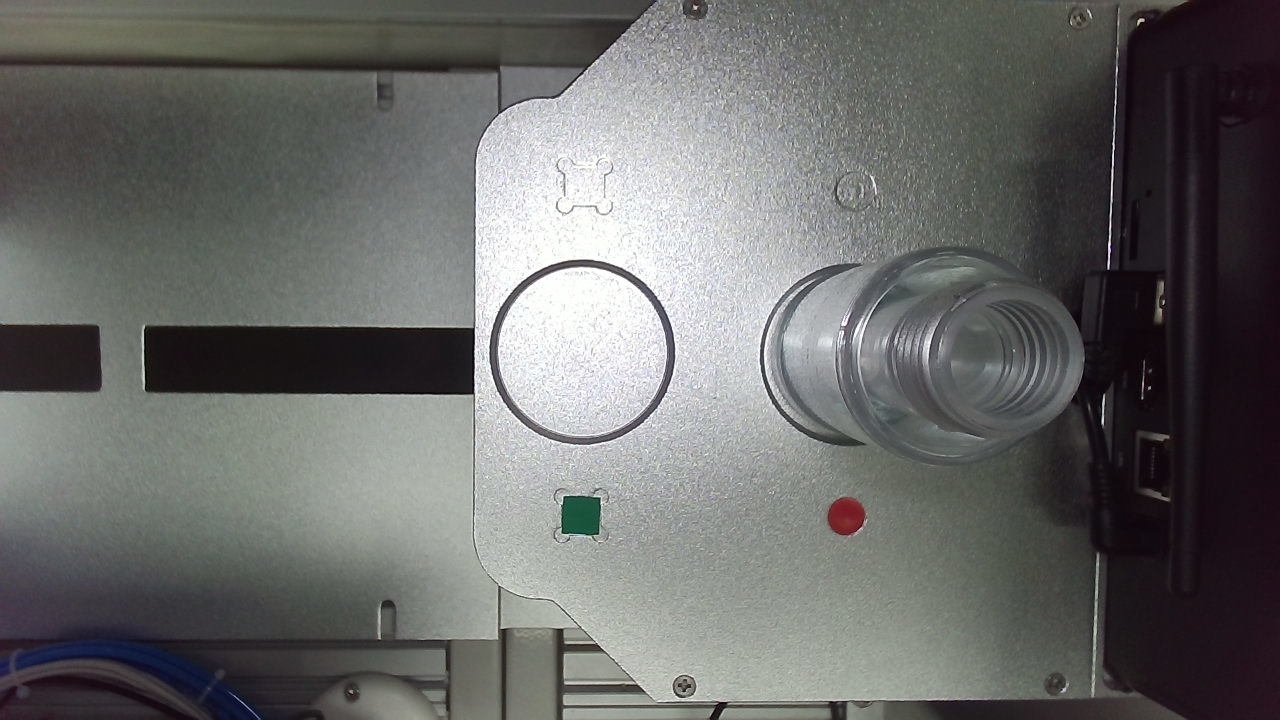XLabel: (750, 193, 787, 227)
YLabel: (531, 193, 565, 228)
none: (467, 258, 631, 428)
transparentempty: (692, 221, 955, 438)
